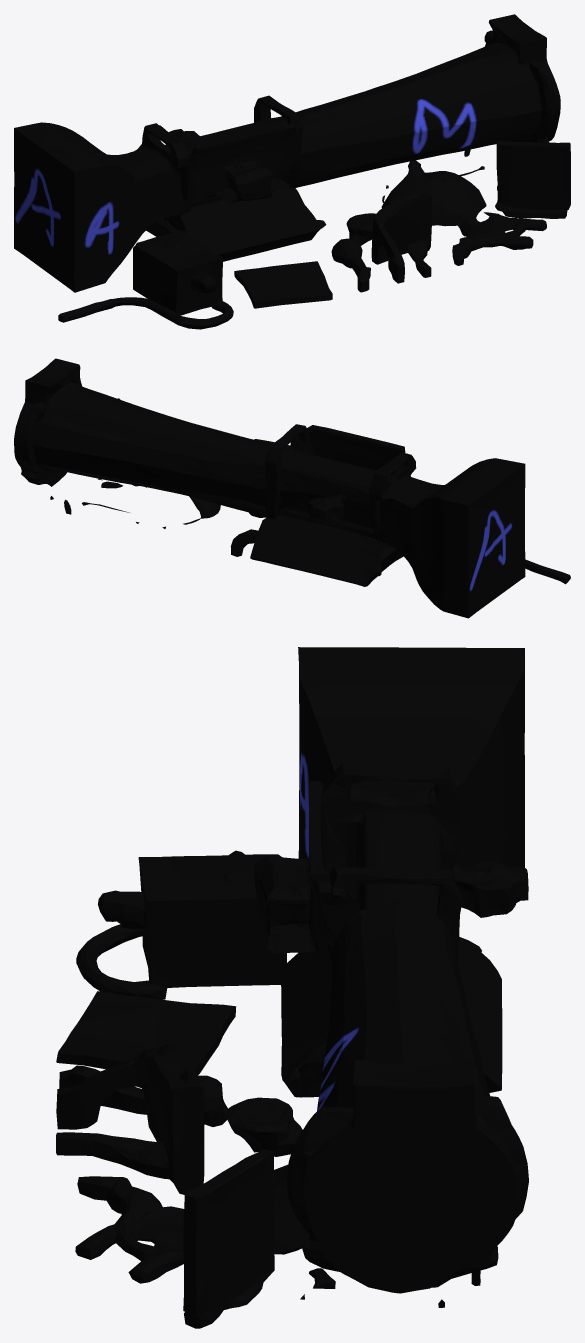
Rendered from Tunnel.glb.
The picture shows the model from 3 angles, top to bottom: view 1: azimuth 30°, elevation 25°; view 2: azimuth 150°, elevation 25°; view 3: azimuth 270°, elevation 25°; orthographic projection. The views are drawn at different scales.
Parts seen in each view (by area): view 1: node_id5; view 2: node_id5; view 3: node_id5.
Boxes of the visible parts, <box> form: node_id5: <box>14,14,570,329</box>; node_id5: <box>14,358,570,618</box>; node_id5: <box>56,647,528,1328</box>.
Size of the model in its own units: 0.512 by 0.1339 by 0.2163.
1 material, 1 textured.
